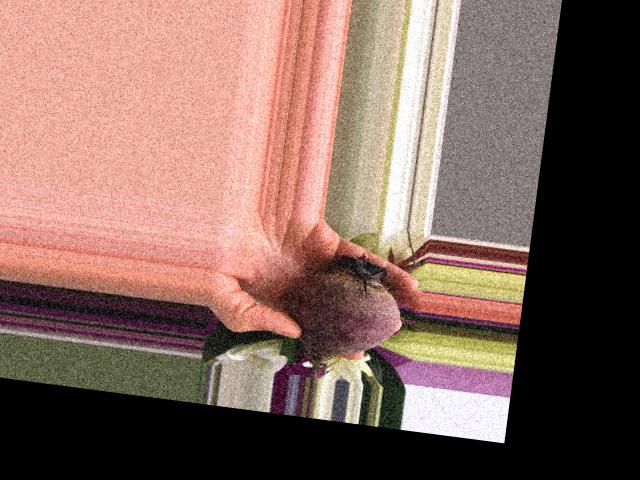beet: (278, 244, 408, 388)
